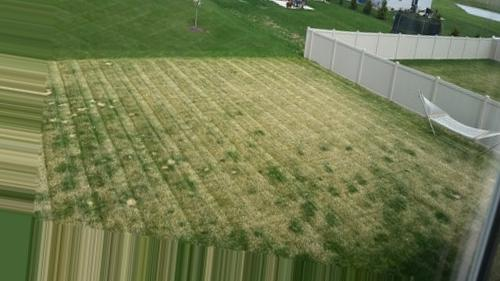patch: (271, 131, 402, 221), (117, 154, 253, 227), (409, 137, 469, 226), (210, 76, 329, 115), (58, 106, 98, 188), (108, 92, 183, 133), (195, 120, 258, 149), (102, 64, 189, 84), (227, 57, 307, 74), (345, 93, 375, 125)
